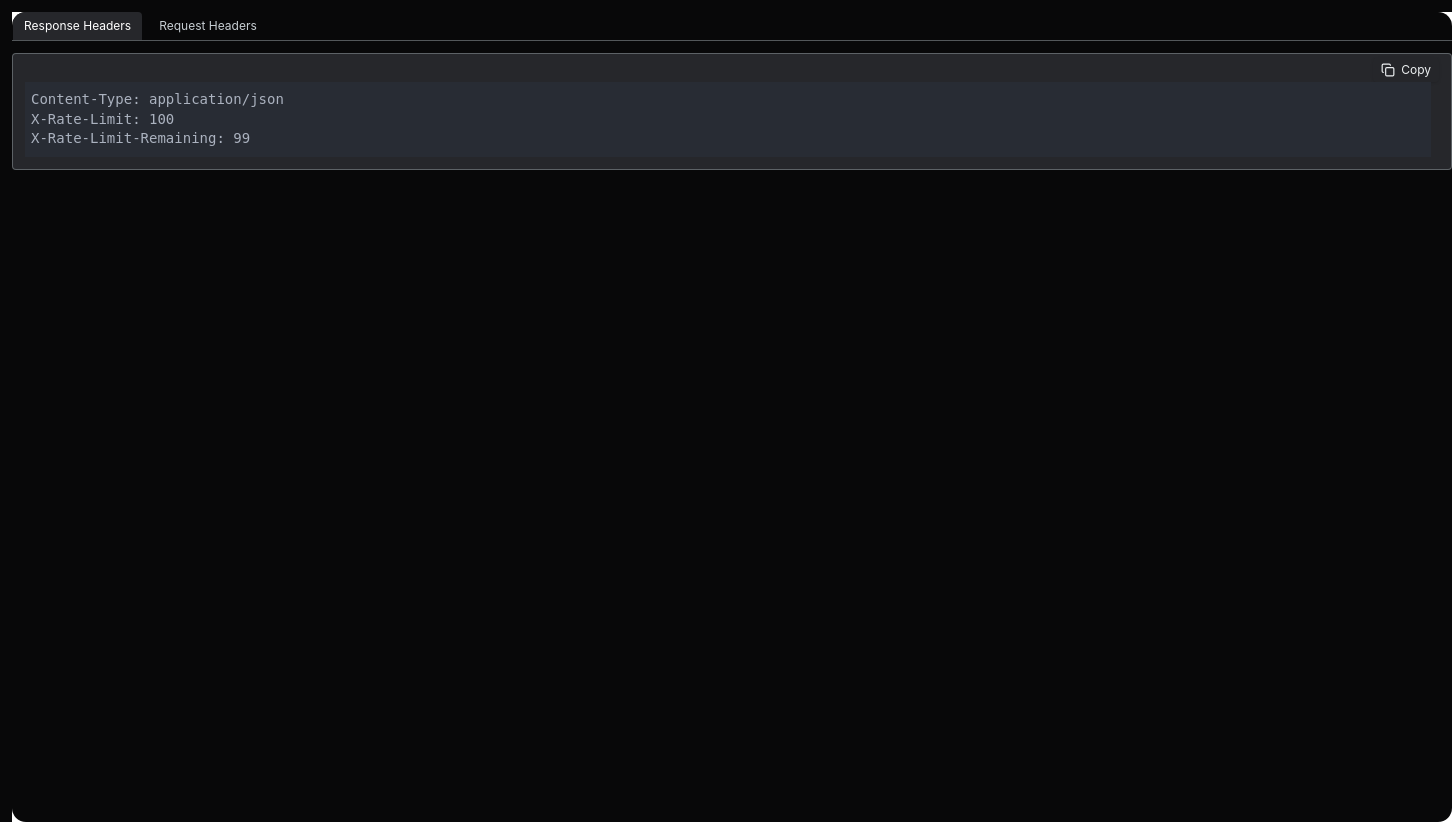
Test case: HeadersPanel › displays empty state when no request headers
The width and height of the screenshot is (1452, 822).
Click the tab "Request Headers" at (208, 26), box [147,12,269,40]
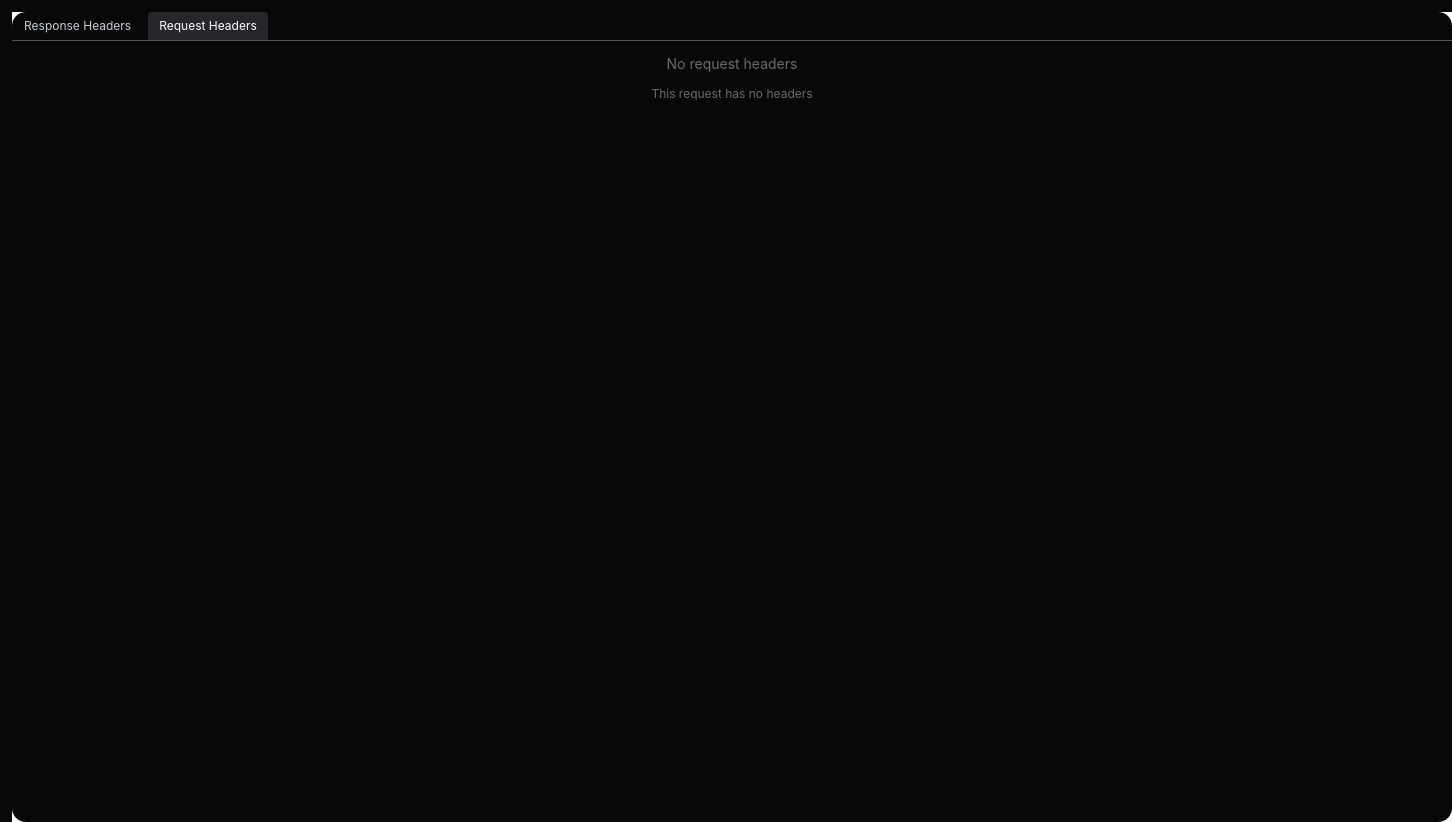
Result: the text "No request headers" is shown at [667,55,797,72]
Result: the text "This request has no headers" is shown at [651,84,813,103]
